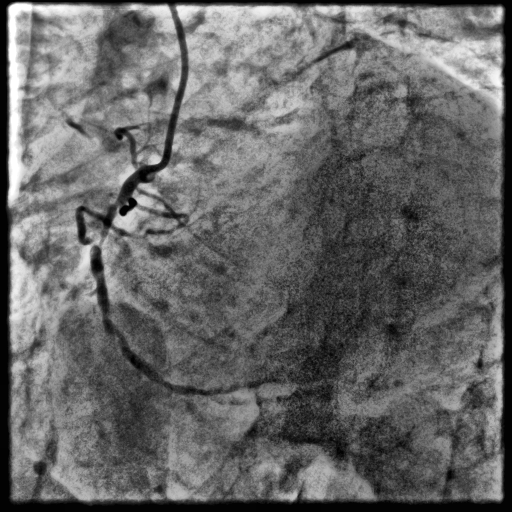pborca: (207, 376, 289, 395)
pda: (206, 394, 299, 404)
rca: (89, 165, 214, 398)
